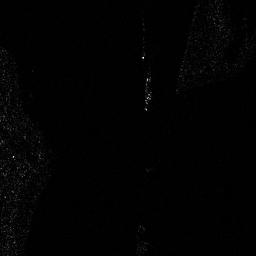ship: (143, 75, 152, 105)
